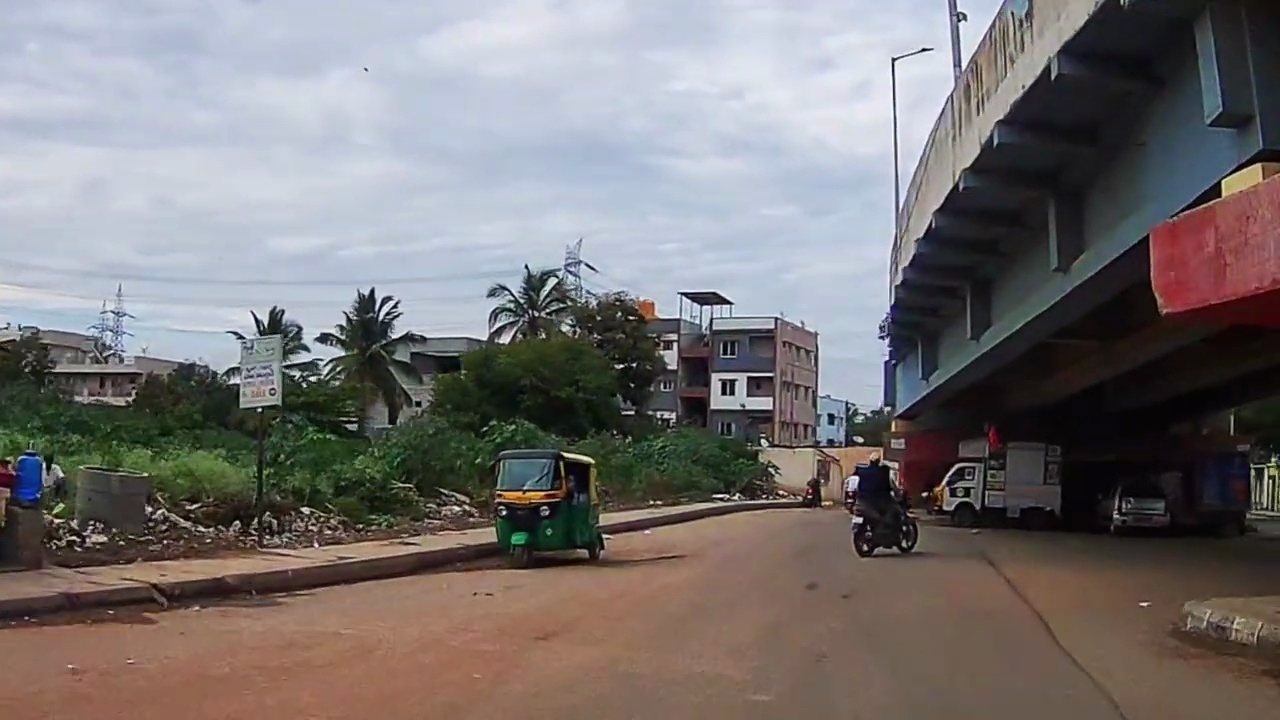garbage: (147, 511, 340, 541), (429, 488, 472, 523)
